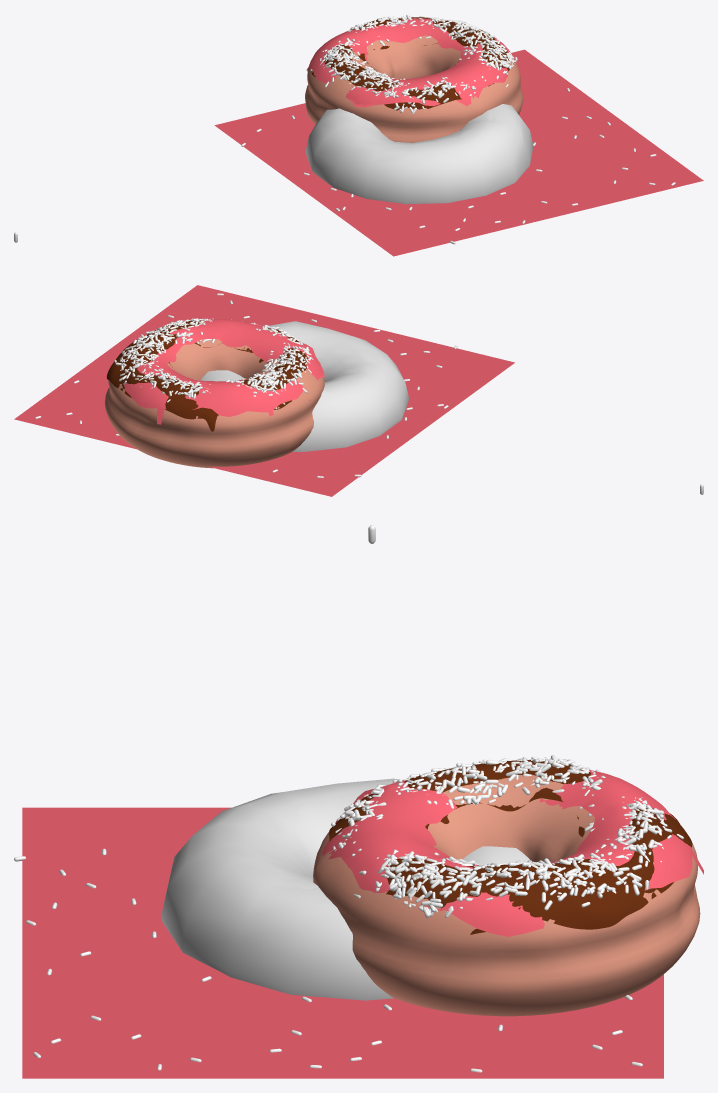
The picture shows the model from 3 angles, top to bottom: view 1: azimuth 30°, elevation 25°; view 2: azimuth 150°, elevation 25°; view 3: azimuth 270°, elevation 25°; orthographic projection. The views are drawn at different scales.
Visible parts, largest first — view 1: Plane.001, donut.002, donut.001, icing.003, icing.001; view 2: Plane.001, donut.001, donut.002, icing.003, icing.001; view 3: Plane.001, donut.001, donut.002, icing.003, icing.001, icing.002.
Boxes of the visible parts, x1,y1,x2,y2 form: Plane.001: [214, 49, 703, 256]; donut.002: [305, 104, 533, 204]; donut.001: [305, 35, 523, 142]; icing.003: [306, 18, 510, 107]; icing.001: [311, 17, 509, 112]; Plane.001: [14, 285, 514, 496]; donut.001: [104, 339, 324, 468]; donut.002: [200, 321, 408, 451]; icing.003: [123, 319, 324, 424]; icing.001: [106, 320, 307, 431]; Plane.001: [22, 807, 663, 1078]; donut.001: [313, 775, 700, 1016]; donut.002: [161, 778, 529, 1000]; icing.003: [321, 770, 703, 936]; icing.001: [329, 760, 692, 934]; icing.002: [245, 796, 352, 889].
Size of what is drawn, in the model's own units: 0.9536 by 0.1683 by 0.5376.
